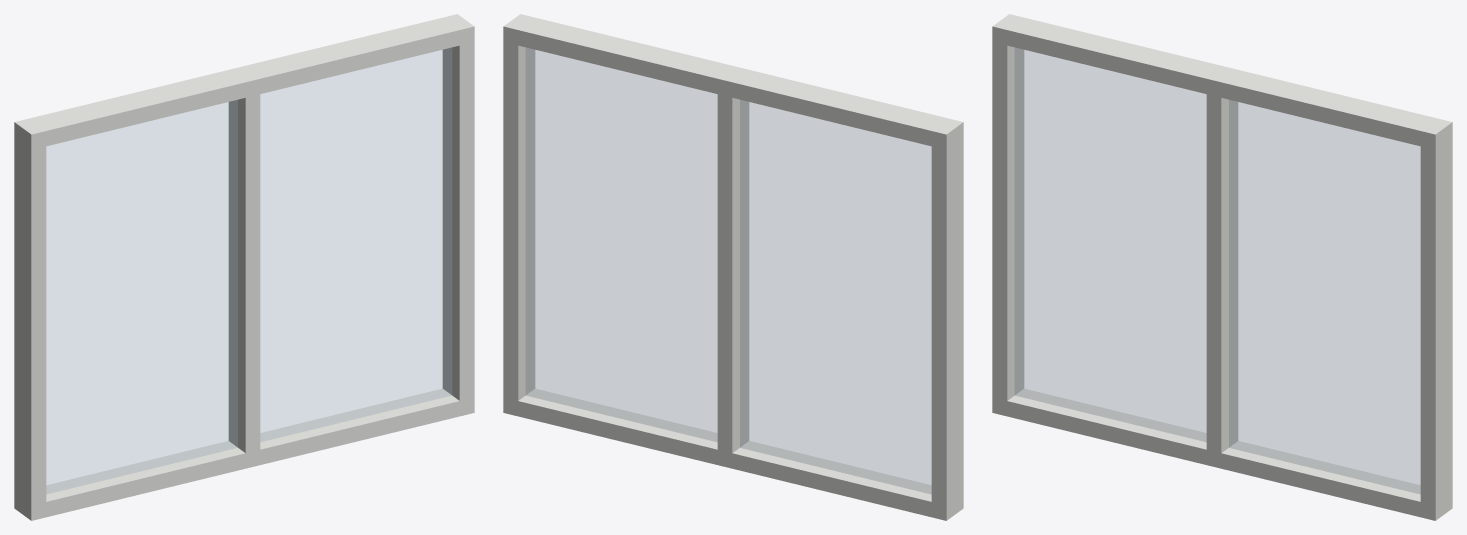
Rendered from window.glb.
3 renders of one model, left to right at view 1: azimuth 30°, elevation 25°; view 2: azimuth 150°, elevation 25°; view 3: azimuth 330°, elevation 25°, orthographic.
Parts seen in each view (by area): view 1: window; view 2: window; view 3: window.
Part boxes in pixels (bbox=[...]): window: bbox=[14, 14, 474, 520]; window: bbox=[503, 14, 963, 520]; window: bbox=[992, 14, 1452, 520].
Bounding box in the file's own units: 1.5 × 1.25 × 0.1.
